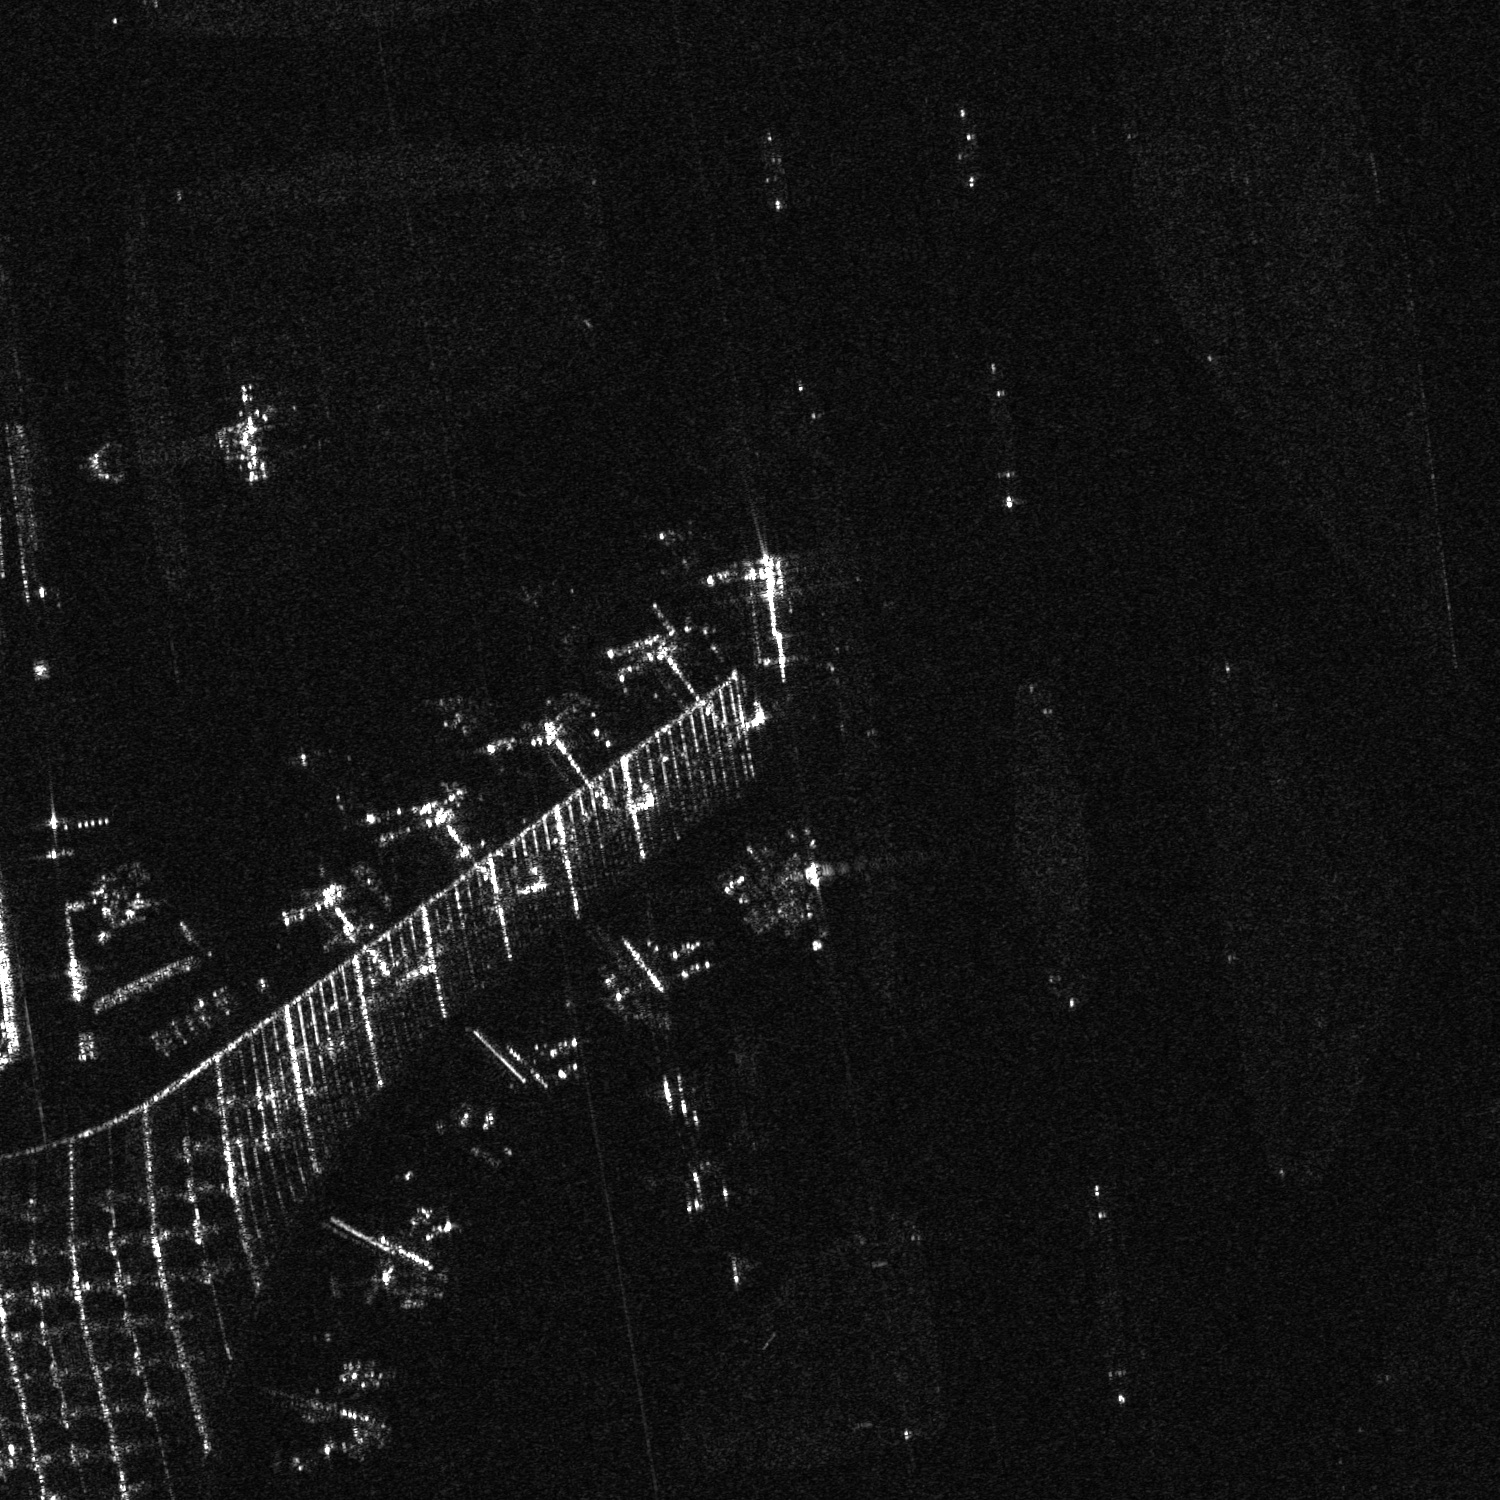A220: (658, 527, 712, 571)
